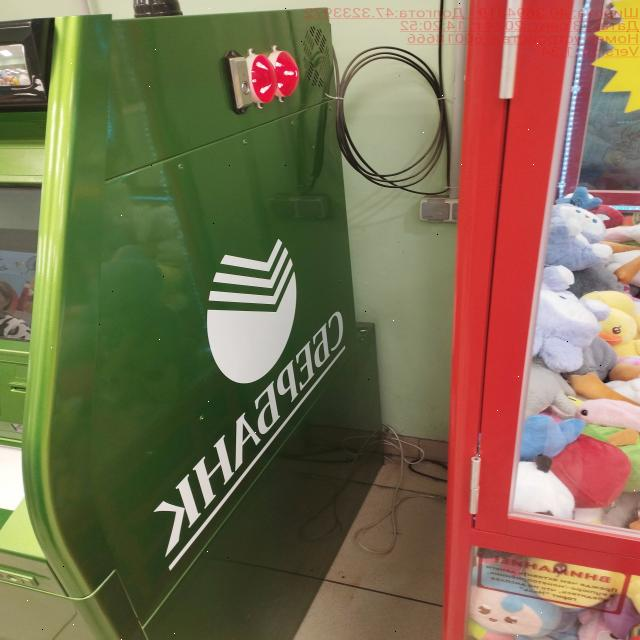bank: (0, 6, 385, 640)
